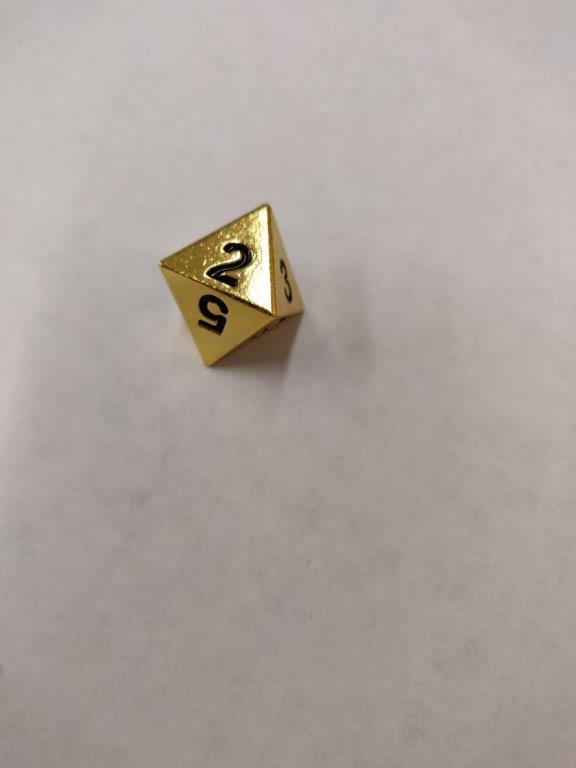d8-2: (157, 205, 305, 369)
